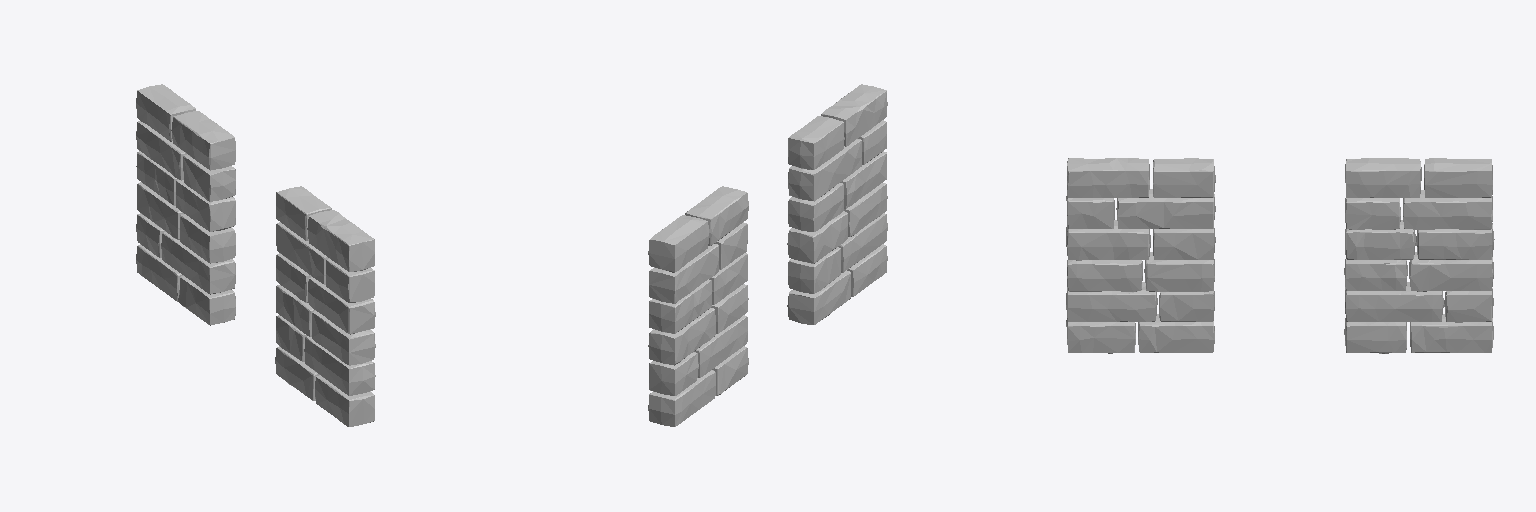
Rendered from room2WindowFramesBricks.obj.
3 renders of one model, left to right at view 1: azimuth 30°, elevation 25°; view 2: azimuth 150°, elevation 25°; view 3: azimuth 270°, elevation 25°, orthographic.
Bounding box in the file's own units: 0.2077 × 1.26 × 2.64.